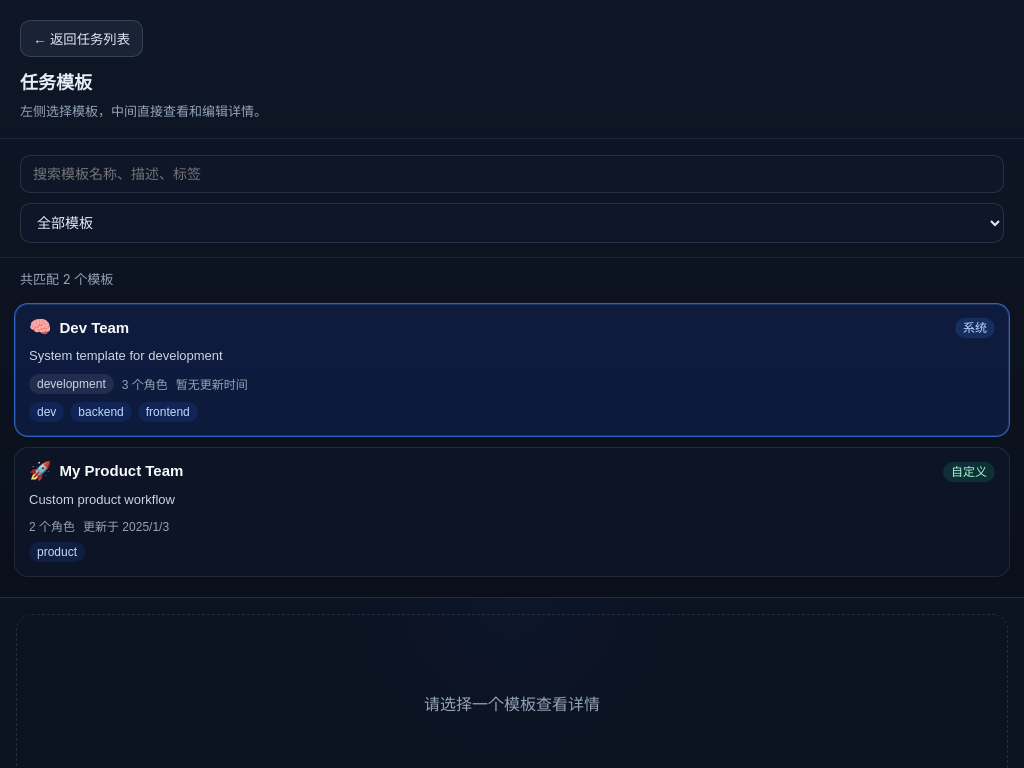
it: TemplateManagerPanel › filters templates by search query and source
Check: the text "Dev Team" is shown, box [60, 318, 129, 336]
Check: the text "My Product Team" is shown, box [60, 462, 183, 479]
Type "product" into the field with placeholder "搜索模板名称、描述、标签" at (512, 174), box [20, 154, 1004, 192]
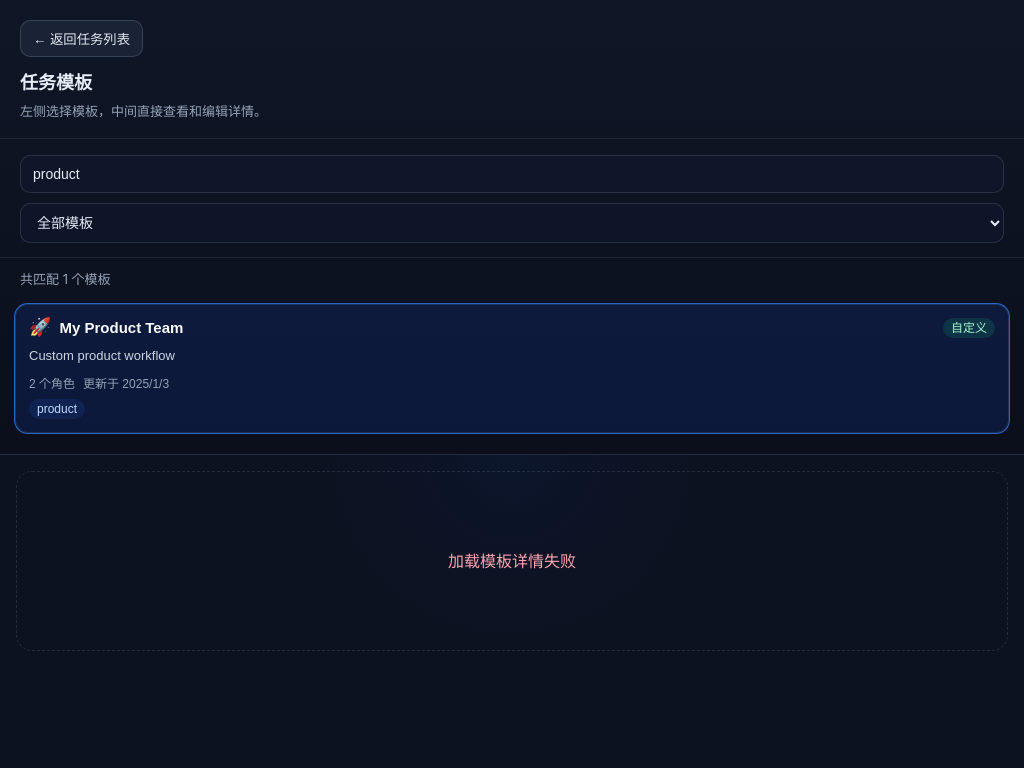
Check: the text "My Product Team" is shown, box [60, 318, 183, 336]
Check: the text "共匹配 1 个模板" is shown, box [20, 270, 111, 286]
Check: the button "Dev Team" is gone
Select "系统模板" in the dropdown showing "全部模板" at (512, 222), box [20, 202, 1004, 242]
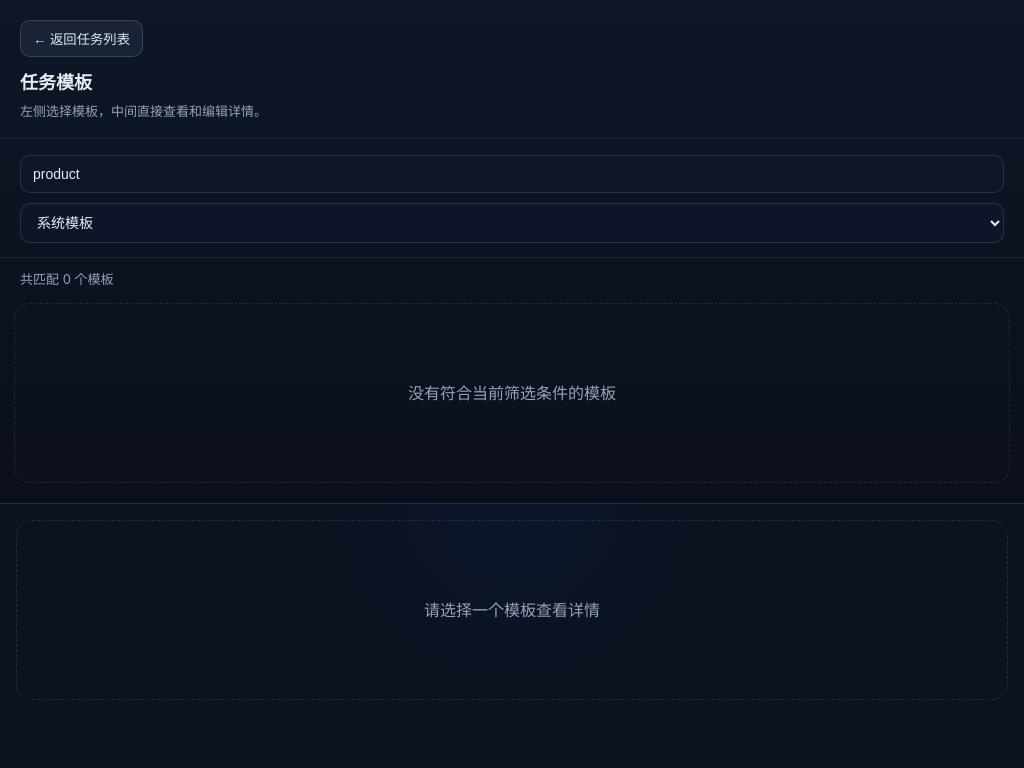
Check: the text "没有符合当前筛选条件的模板" is shown, box [14, 303, 1010, 483]
